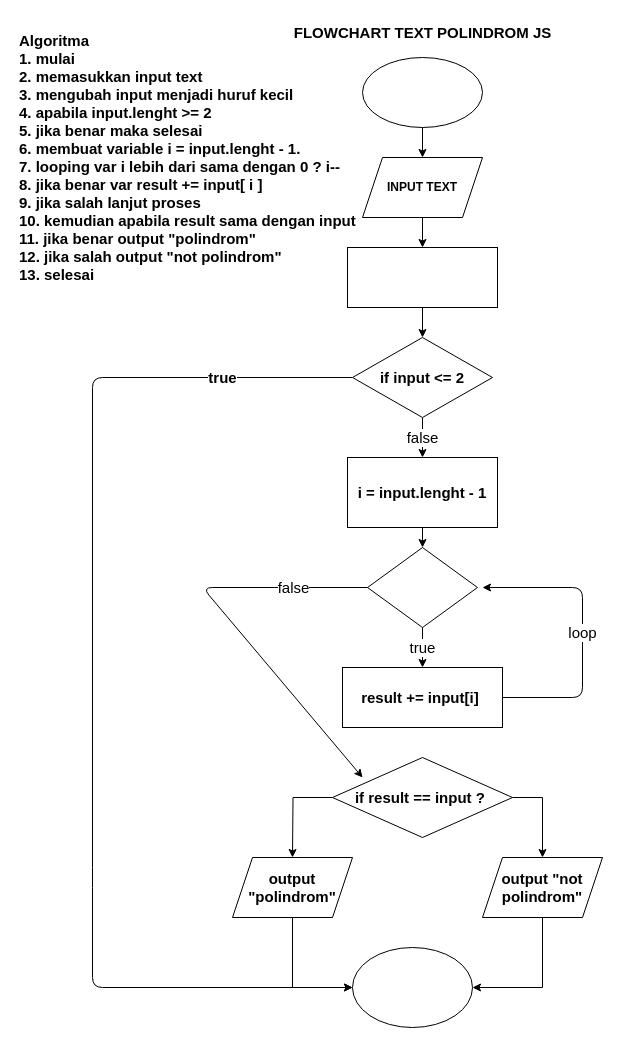
This 620x1045 diagram has some shape labels left out. The centre of each missing label's shape, as x and y in pixels:
"covert to lower case" belongs at (422,277).
"END" belongs at (412,987).
"if i >= 0 ? 1--" belongs at (422,587).
"START" belongs at (422,92).
